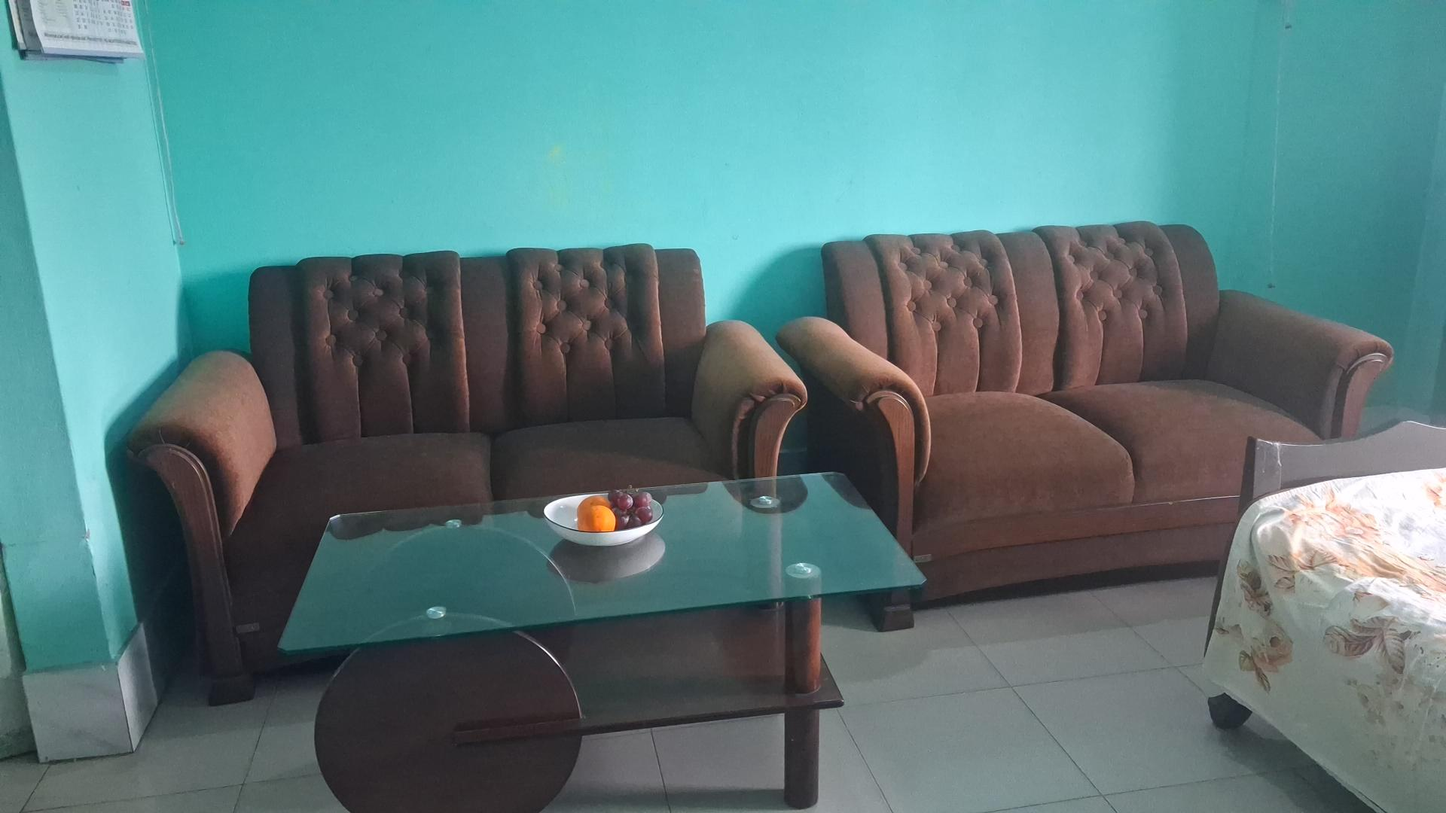Bowl: (542, 495, 667, 548)
Food: (578, 495, 659, 528)
